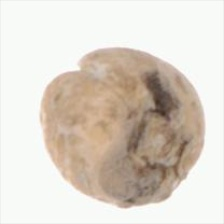L4: (41, 47, 205, 210)
